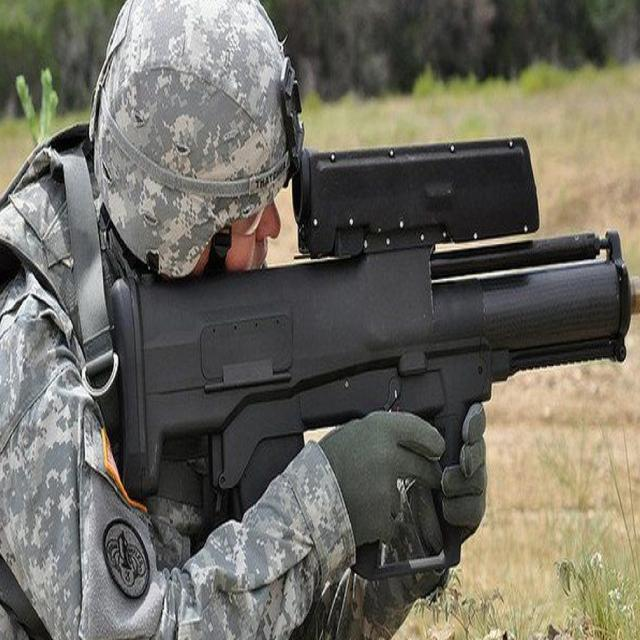Weapon: (109, 137, 640, 530)
